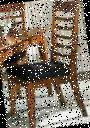Mesa: (0, 20, 61, 109)
Silla: (0, 0, 89, 127)
